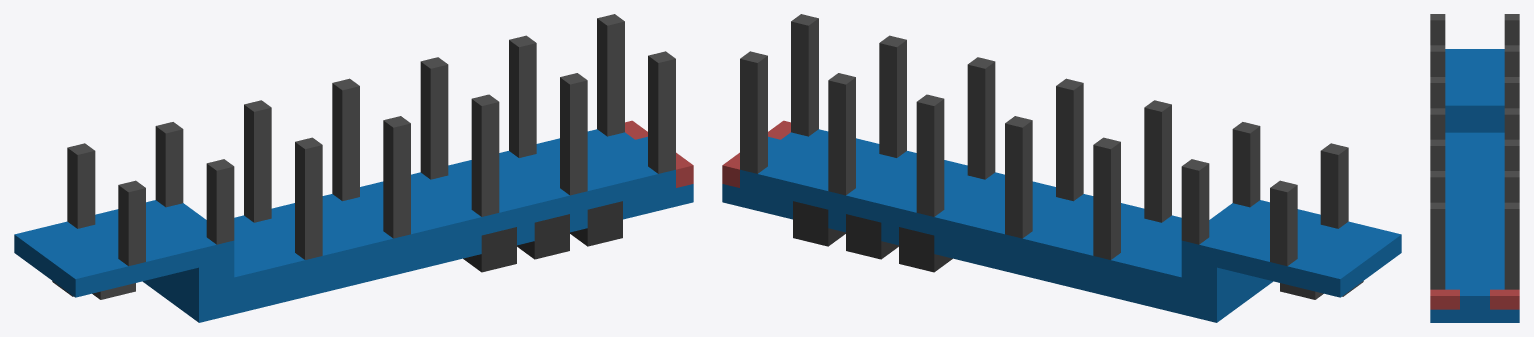
Rendered from semitrailer-v3-blue.gltf.
The picture shows the model from 3 angles, left to right: view 1: azimuth 30°, elevation 25°; view 2: azimuth 150°, elevation 25°; view 3: azimuth 270°, elevation 25°; orthographic projection. The views are drawn at different scales.
Visible parts, largest first — view 1: model, wheels; view 2: model, wheels; view 3: model.
Boxes of the visible parts, x1=… form: model: x1=14, y1=14, x2=693, y2=322; wheels: x1=463, y1=201, x2=622, y2=272; model: x1=722, y1=14, x2=1401, y2=322; wheels: x1=793, y1=201, x2=952, y2=272; model: x1=1430, y1=14, x2=1519, y2=322.
Bounding box in the file's own units: 3.5 × 0.9 × 0.6.
Materials: 2 (2 with a texture image).
